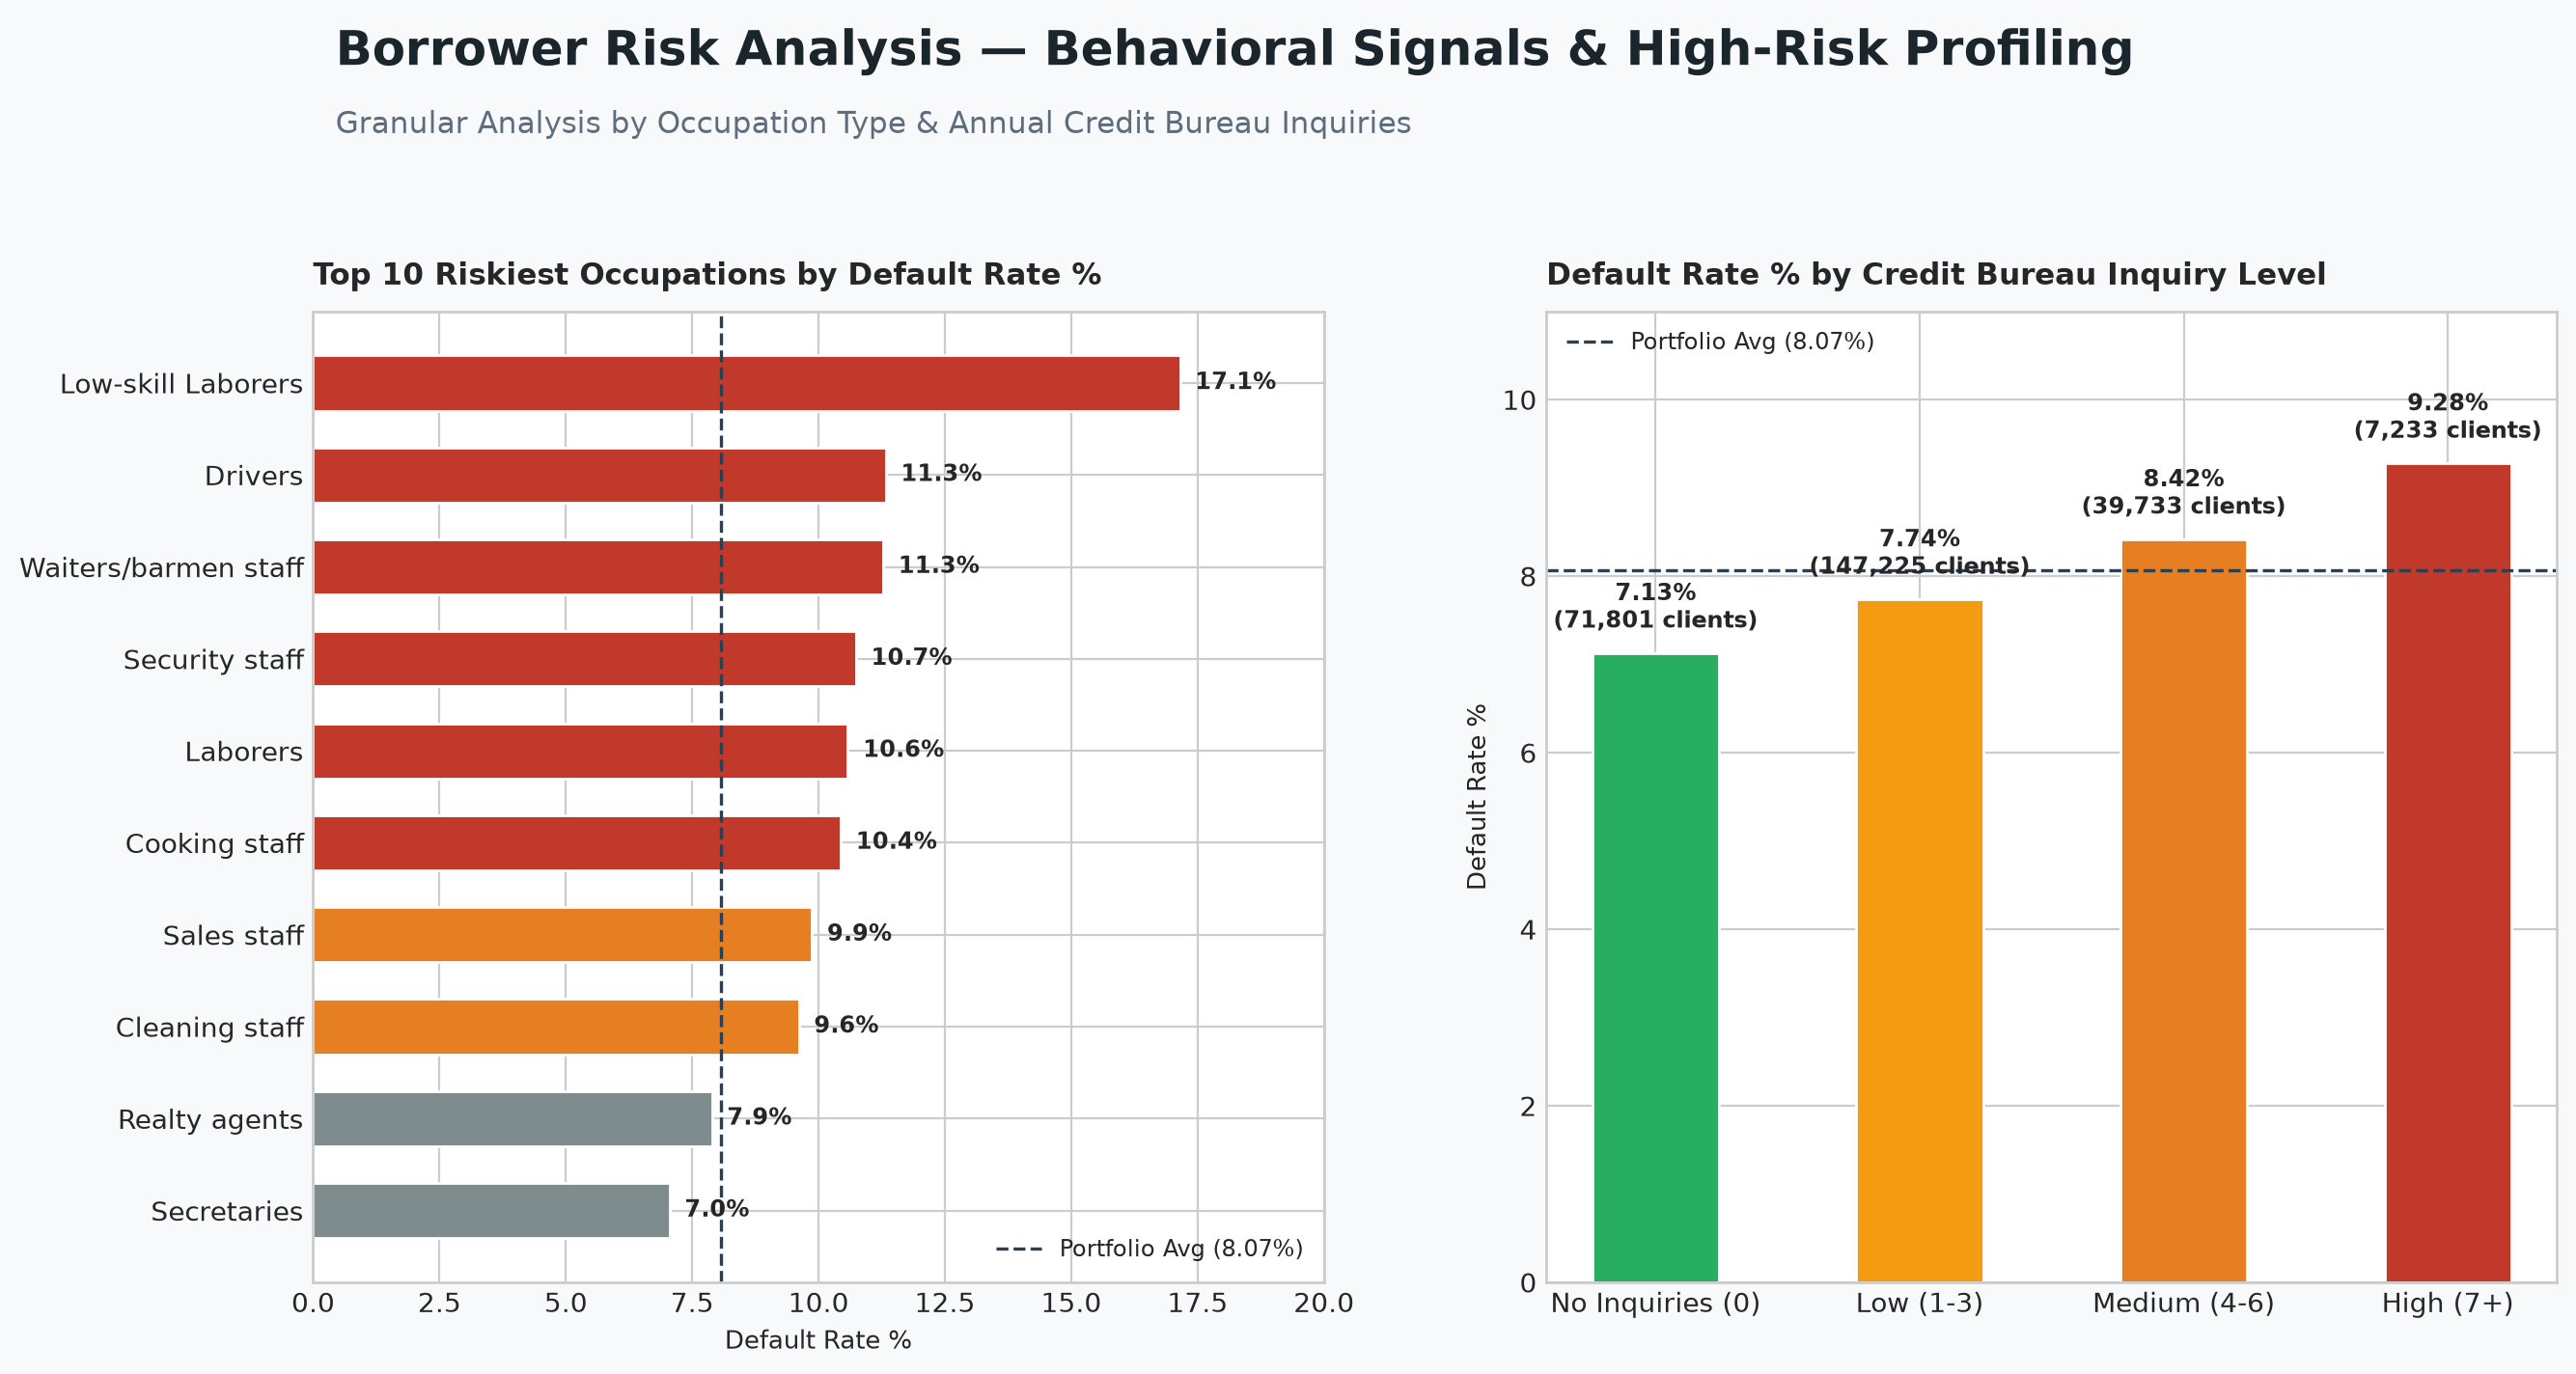

Layout of this report page (visuals, bound fields, positions):
{"tool":"powerbi","page":{"name":"Behavioral Signals","canvas":[1280,720],"ordinal":1},"visuals":[{"type":"clusteredBarChart","title":"Top 10 Riskiest Occupations by Default Rate %","fields":{"Category":["credit_risk_powerbi.OCCUPATION_TYPE"],"Y":["credit_risk_powerbi.Default Rate %"]},"box":[0,128.8,641.2,580],"z":0},{"type":"clusteredBarChart","title":"Default Rate % by Credit Bureau Inquiry Level","fields":{"Category":["credit_risk_powerbi.inquiries_segment"],"Y":["credit_risk_powerbi.Default Rate %"]},"box":[640.3,129,639.4,463.9],"z":1},{"type":"textbox","box":[440,15,400,78.8],"z":2}]}

Visuals, with their boxes on the page's 1280x720 design canvas (x1, y1, x2, y2). These are canvas units, not pixel positions in the 2576x1374 screenshot, which may show the page scaled, cropped or inside an application window:
"Top 10 Riskiest Occupations by Default Rate %" clusteredBarChart: 0, 129, 641, 709
"Default Rate % by Credit Bureau Inquiry Level" clusteredBarChart: 640, 129, 1280, 593
textbox: 440, 15, 840, 94
